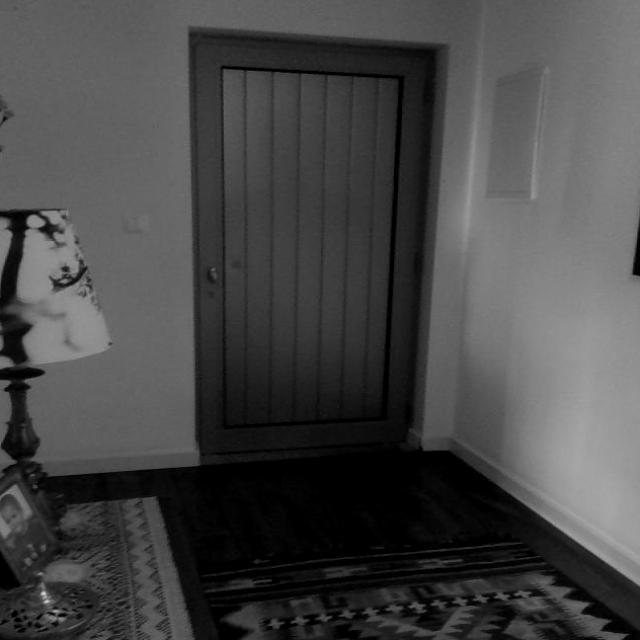door: (188, 27, 435, 459)
